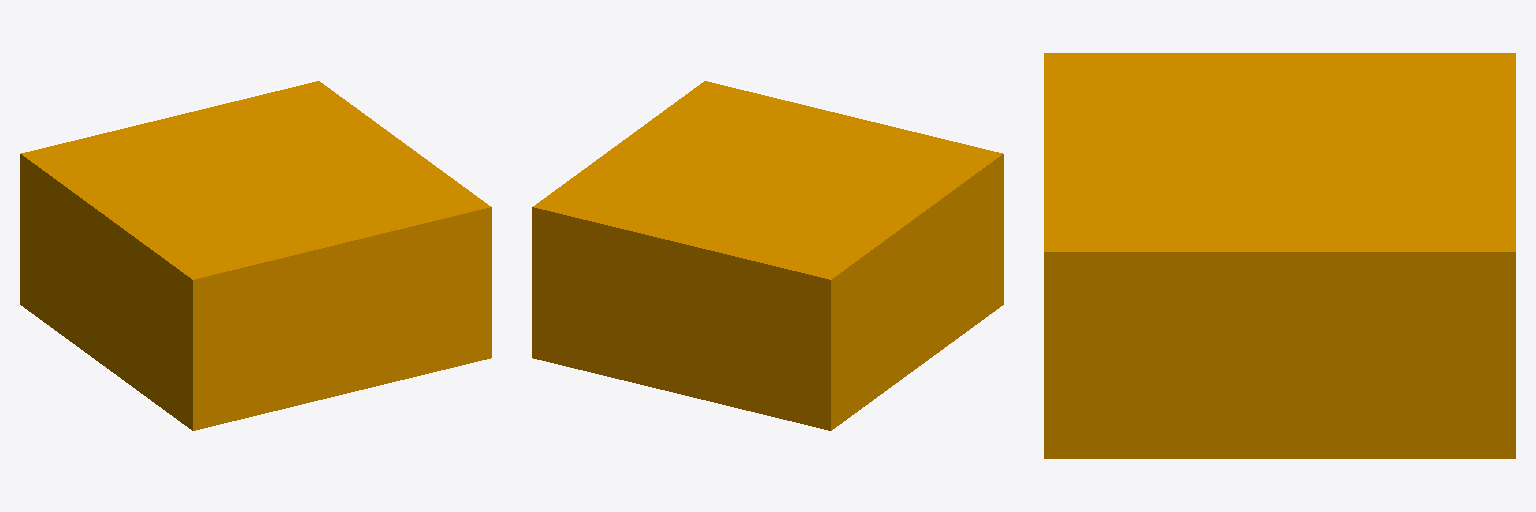
URDF robot description (block):
<?xml version="1.0"?>
<robot name="block">
<link name="block">
    <visual>
        <origin rpy="-1.57079632675 0 0" xyz="0 0 0"/>
        <geometry>
            <mesh filename="cube.obj" scale="0.775 0.375 0.775"/>
        </geometry>
    </visual>
    <collision>
        <origin xyz="0 0 0"/>
        <geometry>
            <box size="1.55 1.55 0.75"/>
        </geometry>
    </collision>
    <inertial>
        <density value="1000.0"/>
    </inertial>
</link>
</robot>

--- What the picture shows (computed from the rendered views, not written in the file) ---
Views: 3 orthographic renders of the robot side by side, from view 1: azimuth 30°, elevation 25°; view 2: azimuth 150°, elevation 25°; view 3: azimuth 270°, elevation 25°.
Robot: block — 1 links, 0 joints (none); root link block; default pose: all joints at 0.
Visible links, largest first — view 1: block; view 2: block; view 3: block.
Boxes of the visible links, x1,y1,x2,y2 form: block: (20, 81, 491, 430); block: (532, 81, 1003, 430); block: (1044, 53, 1515, 458).
Size in the robot's own frame: 1.55 by 1.55 by 0.75 metres.
Meshes: 1 distinct files referenced, 1 mesh visuals loaded (1 OBJ).
